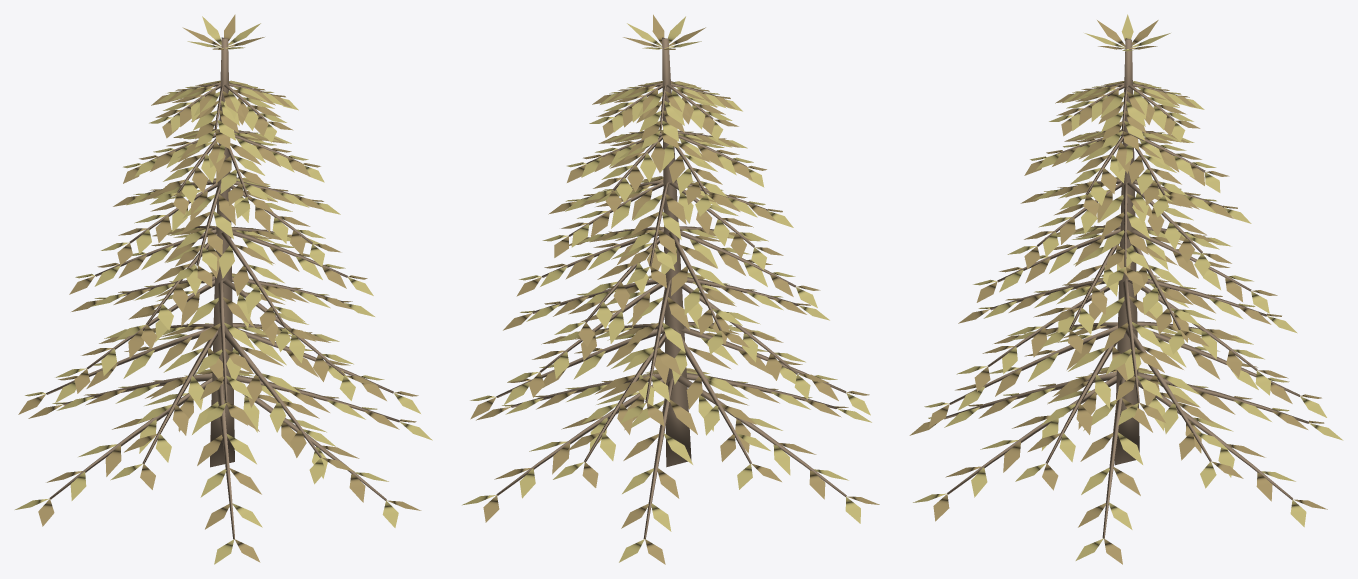
File: SM_PlantPineWiltedLod2.fbx
3 views of the same model, side by side, from view 1: azimuth 30°, elevation 25°; view 2: azimuth 150°, elevation 25°; view 3: azimuth 270°, elevation 25° (orthographic).
Visible parts, largest first — view 1: PlantPineWiltedLod2; view 2: PlantPineWiltedLod2; view 3: PlantPineWiltedLod2.
Boxes of the visible parts, x1,y1,x2,y2 form: PlantPineWiltedLod2: (15,14,432,564); PlantPineWiltedLod2: (462,14,879,564); PlantPineWiltedLod2: (909,14,1343,564).
Bounding box in the file's own units: 2.3 × 2.43 × 2.19.
